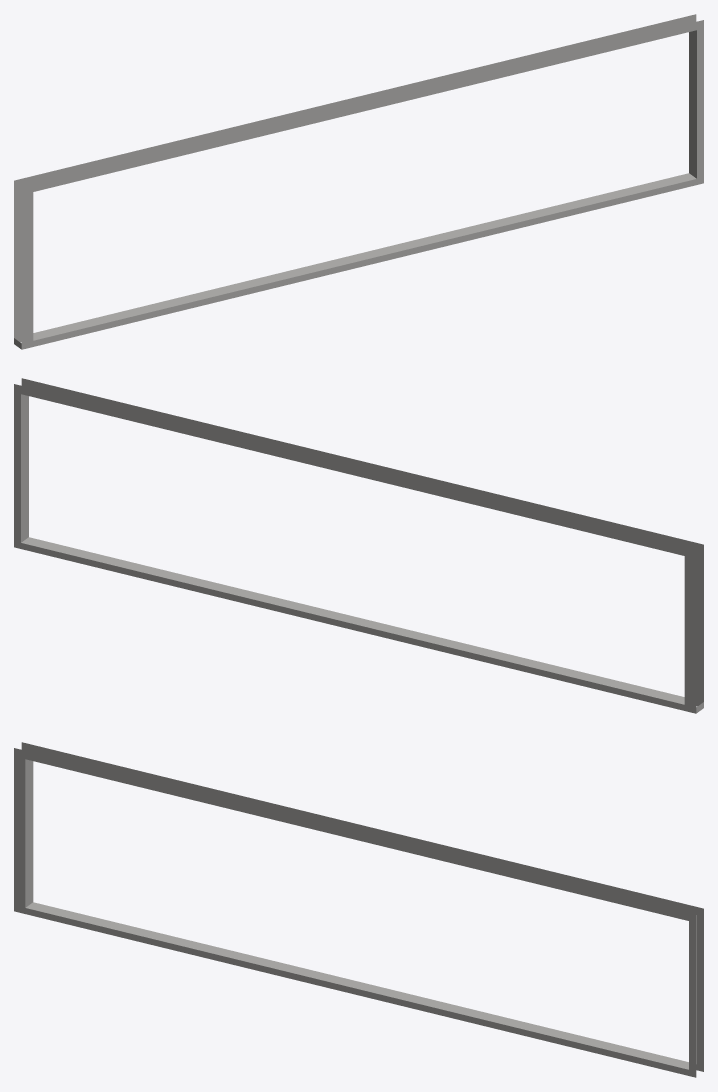
File: lobbyWindow.FBX
The picture shows the model from 3 angles, top to bottom: view 1: azimuth 30°, elevation 25°; view 2: azimuth 150°, elevation 25°; view 3: azimuth 330°, elevation 25°; orthographic projection.
Visible parts, largest first — view 1: lobbyBigWindow; view 2: lobbyBigWindow; view 3: lobbyBigWindow.
Part boxes in pixels (bbox=[...]): lobbyBigWindow: bbox=[14, 14, 703, 349]; lobbyBigWindow: bbox=[14, 378, 703, 713]; lobbyBigWindow: bbox=[14, 742, 703, 1077].
Bounding box in the file's own units: 731 × 167 × 14.51.
Materials: 1 (1 with a texture image).
